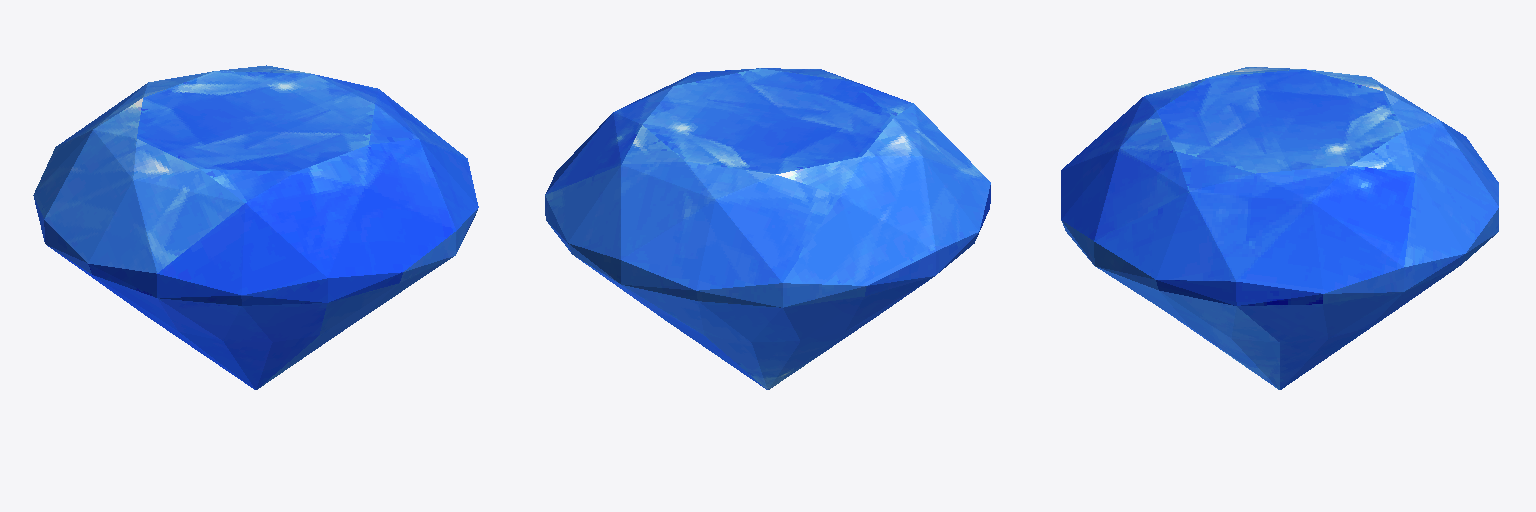
3 views of the same model, side by side, from view 1: azimuth 30°, elevation 25°; view 2: azimuth 150°, elevation 25°; view 3: azimuth 270°, elevation 25° (orthographic).
Visible parts, largest first — view 1: Mesh_0002; view 2: Mesh_0002; view 3: Mesh_0002.
Part boxes in pixels (left/top/right/bottom): Mesh_0002: left=33, top=65, right=478, bottom=389; Mesh_0002: left=545, top=68, right=990, bottom=389; Mesh_0002: left=1061, top=67, right=1498, bottom=389.
Bounding box in the file's own units: 5.18 × 3.51 × 5.18.
Materials: 1 (1 with a texture image).